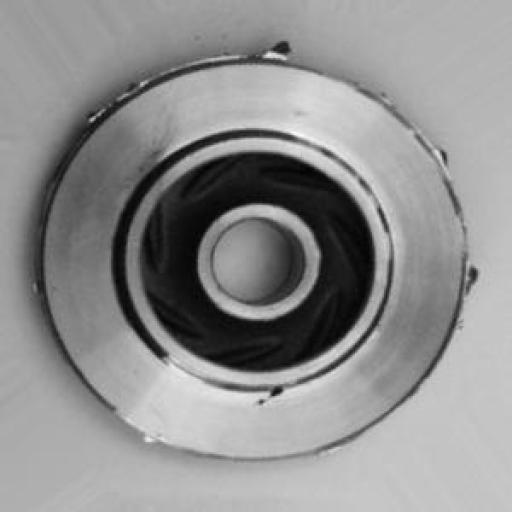defect: (20, 29, 490, 476)
